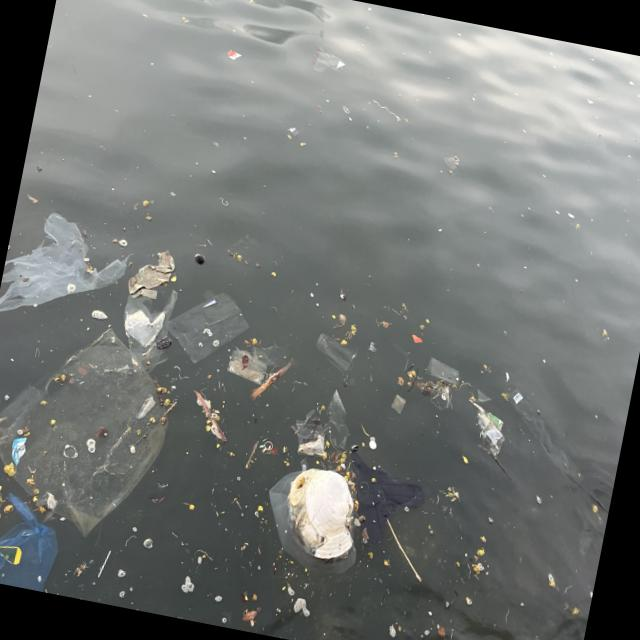foam: (293, 470, 364, 565)
plastic bag: (3, 326, 169, 536), (3, 209, 130, 311), (4, 500, 59, 595), (123, 280, 176, 360)
